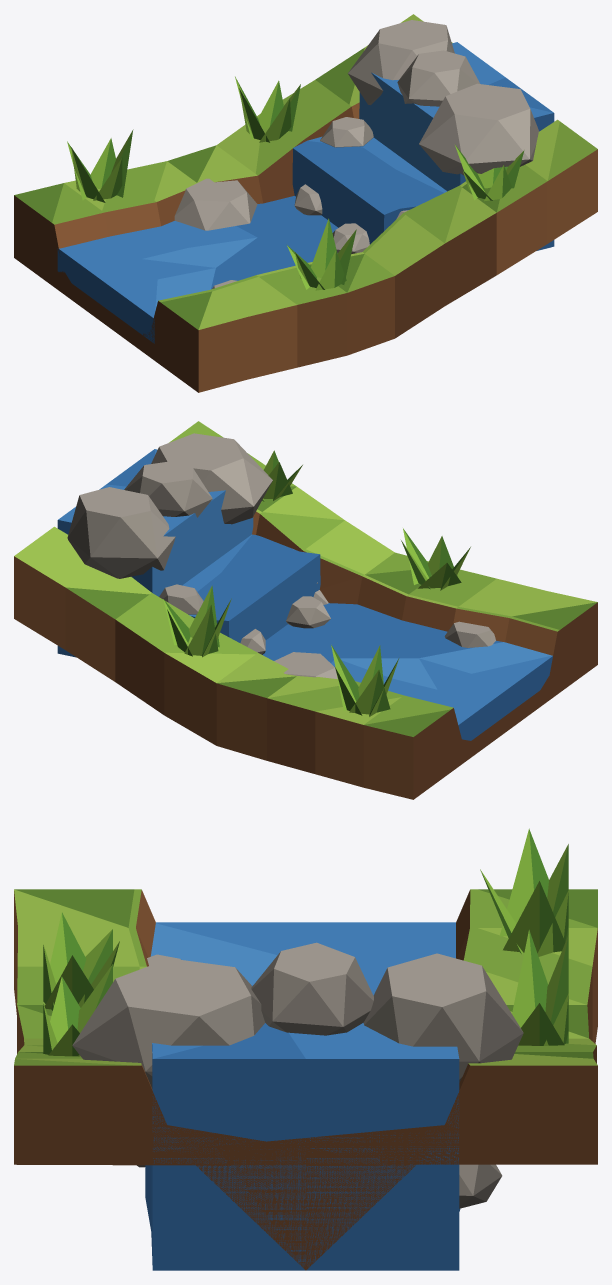
The model's file is FMS_Water_Stream_End.fbx.
The picture shows the model from 3 angles, top to bottom: view 1: azimuth 30°, elevation 25°; view 2: azimuth 150°, elevation 25°; view 3: azimuth 270°, elevation 25°; orthographic projection. The views are drawn at different scales.
Parts seen in each view (by area): view 1: FMS_Water_Stream_End; view 2: FMS_Water_Stream_End; view 3: FMS_Water_Stream_End.
Part boxes in pixels (bbox=[...]): FMS_Water_Stream_End: bbox=[14, 14, 597, 392]; FMS_Water_Stream_End: bbox=[14, 421, 597, 799]; FMS_Water_Stream_End: bbox=[14, 828, 597, 1270].
Size of the model in its own units: 2 by 0.8617 by 1.6.
